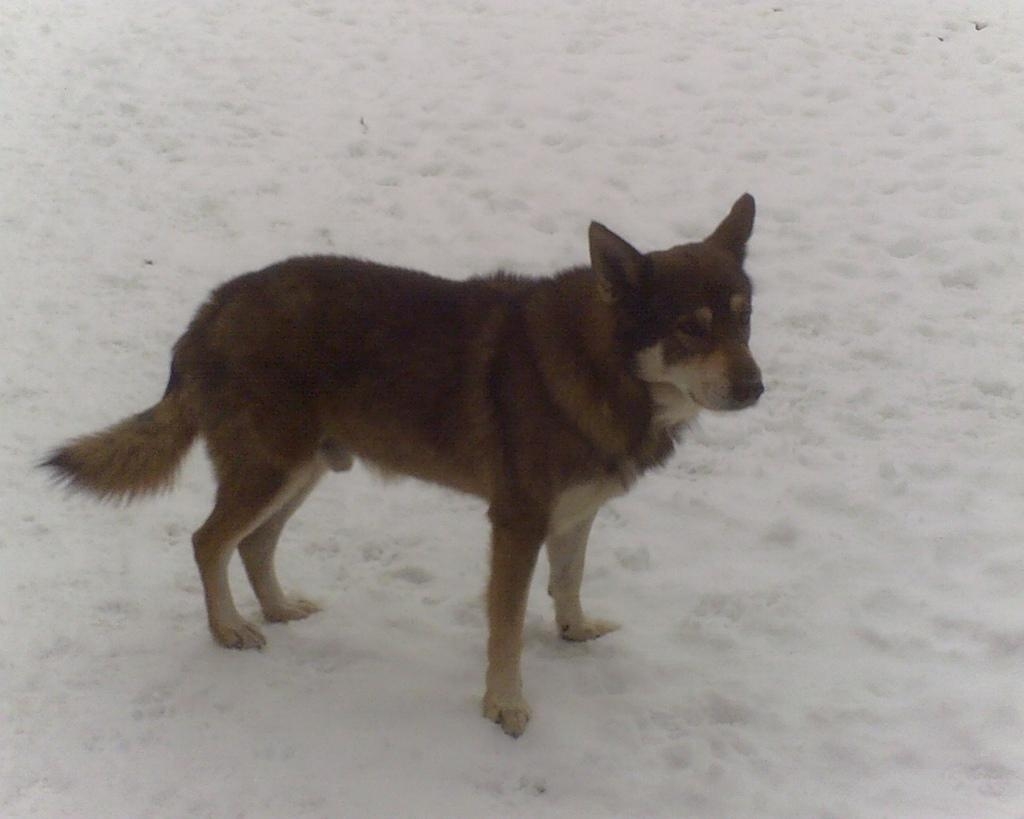Wolf: (43, 186, 761, 737)
